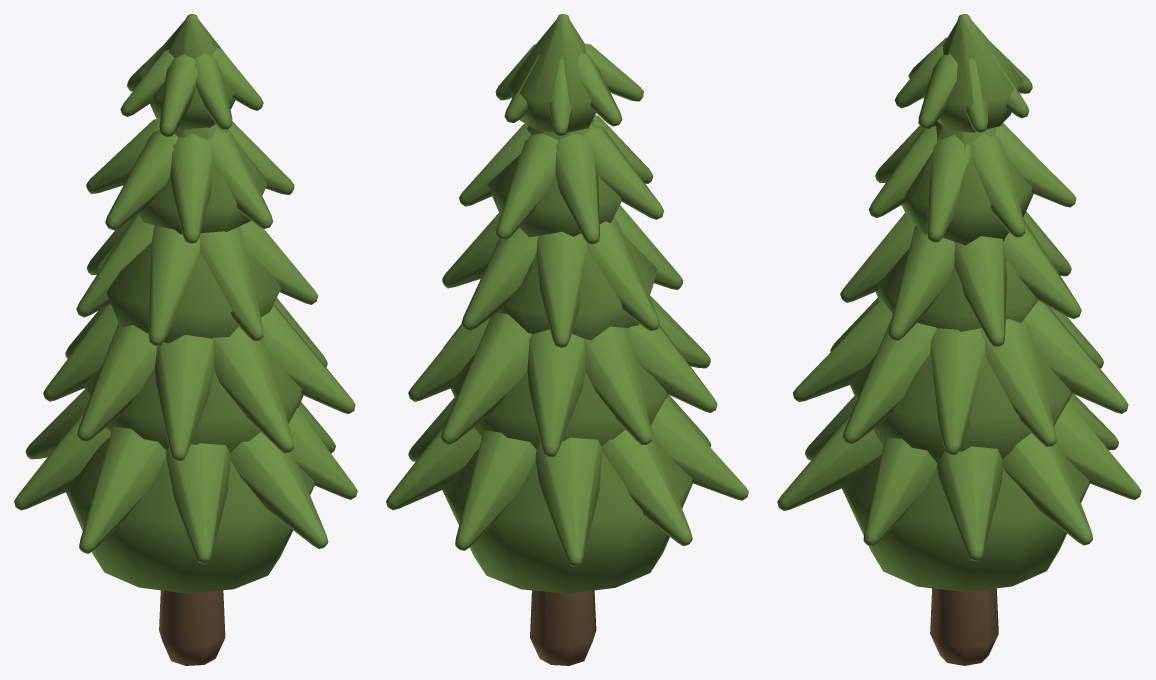
Rendered from prop_pineundefined_ecc9.glb.
The picture shows the model from 3 angles, left to right: view 1: azimuth 30°, elevation 25°; view 2: azimuth 150°, elevation 25°; view 3: azimuth 270°, elevation 25°; orthographic projection.
Parts seen in each view (by area): view 1: prop_pineundefined_ecc9; view 2: prop_pineundefined_ecc9; view 3: prop_pineundefined_ecc9.
Part boxes in pixels (bbox=[...]): prop_pineundefined_ecc9: bbox=[14, 14, 357, 665]; prop_pineundefined_ecc9: bbox=[386, 14, 748, 665]; prop_pineundefined_ecc9: bbox=[777, 14, 1141, 665].
Bounding box in the file's own units: 1.25 × 2.58 × 1.31.
1 material, 1 textured.
